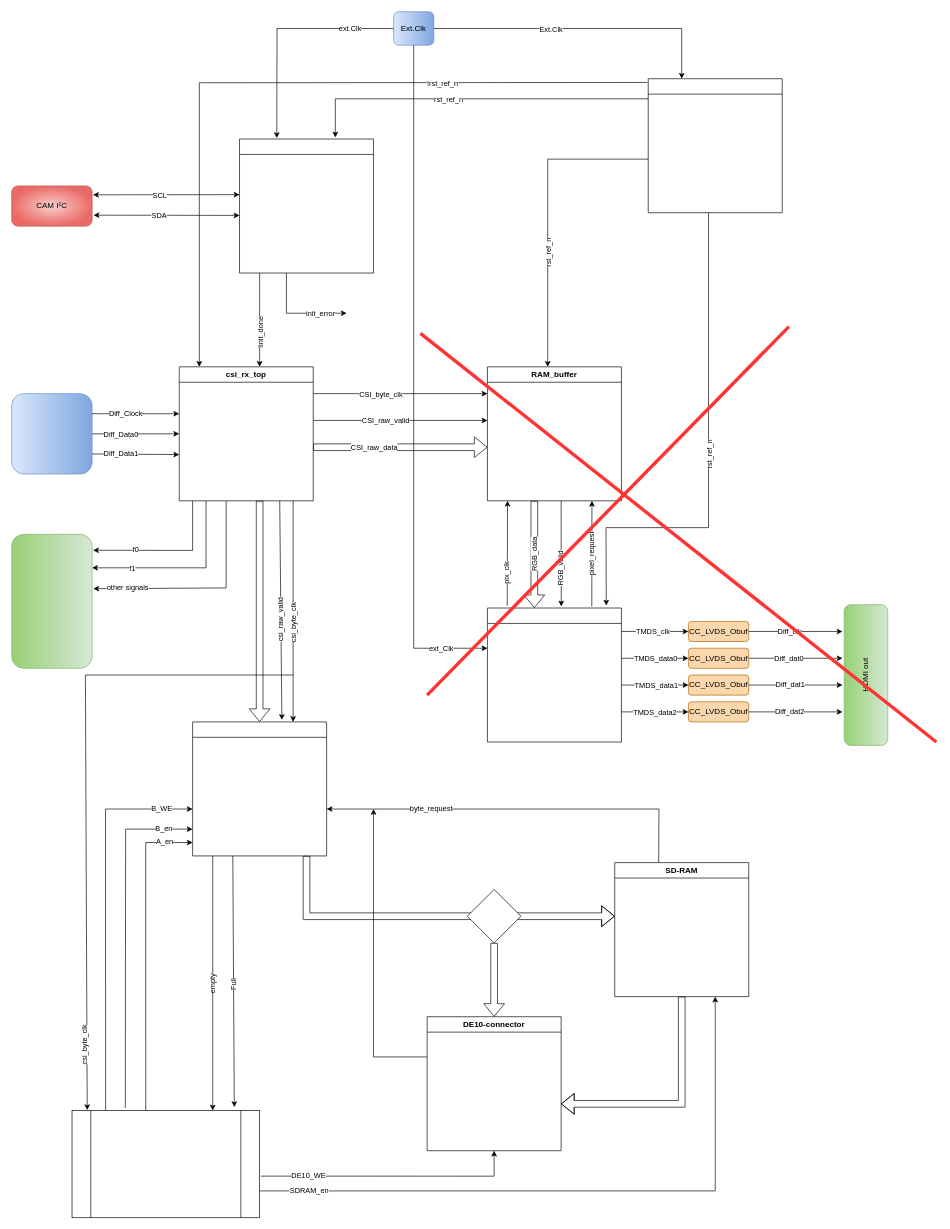
This 950x1229 diagram has some shape labels left out. Here are the shapes that lost their labels. From the top down, the box of each, then its label:
(648, 78, 782, 213): clk_rst_gen
(239, 138, 374, 273): CCI_Handler
(11, 393, 92, 474): CAM CSI-2
(11, 534, 92, 668): PModA-D
(487, 607, 621, 742): video_output_ctrl
(192, 721, 327, 856): FIFO
